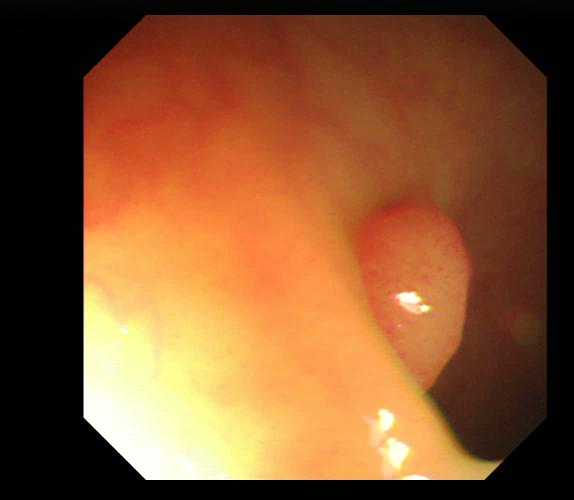polyp: (351, 197, 471, 402)
